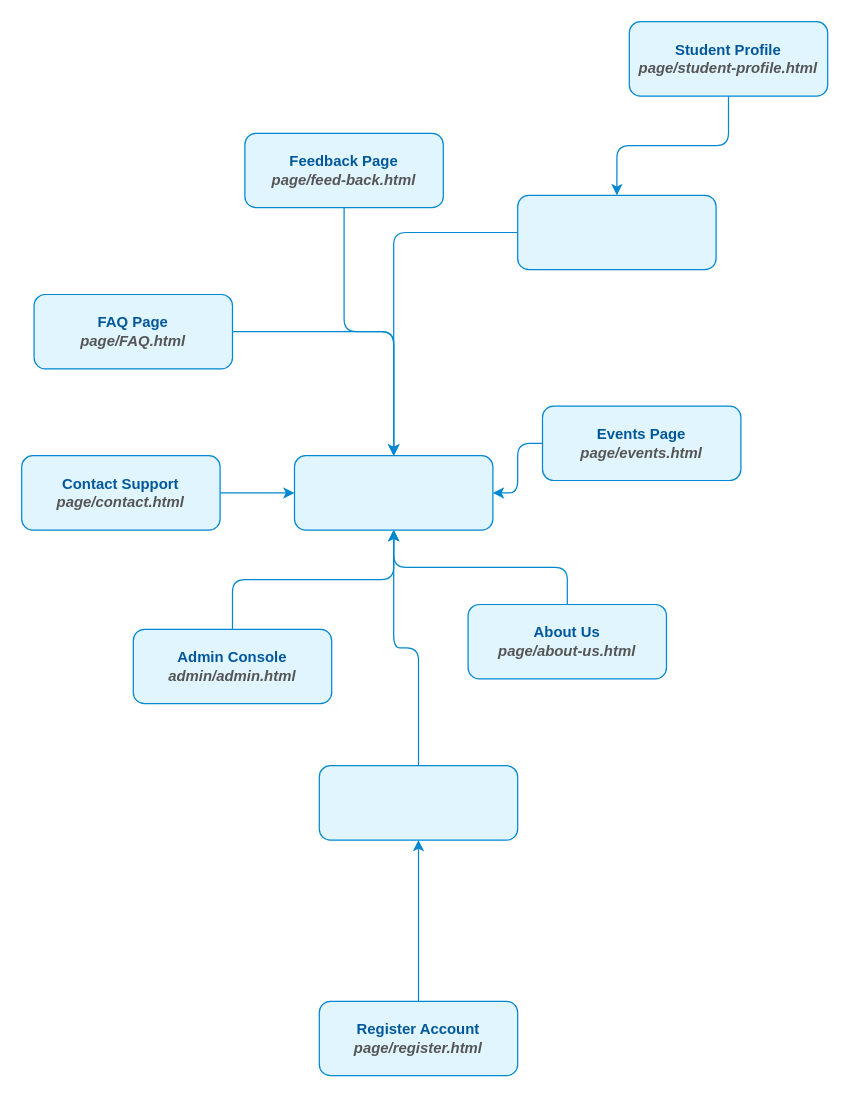
Image size: 849x1097. Some labels were removed from this diagram. Here are the shapes that lost their labels. From the top down, the centre of each, then its label:
(x=616, y=232): Student Dashboard page/student-dashboard.html
(x=393, y=492): Homepage index.html
(x=418, y=802): Login Page page/login.html
